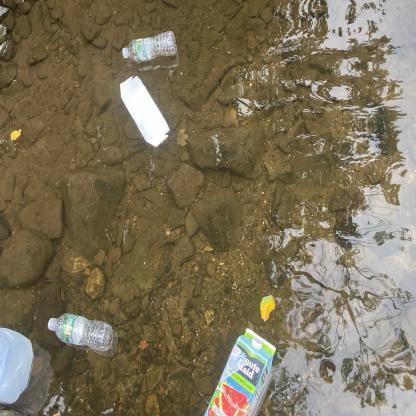trash: (193, 323, 281, 416), (114, 72, 173, 151), (43, 309, 121, 355), (0, 322, 39, 410), (117, 27, 181, 69)
